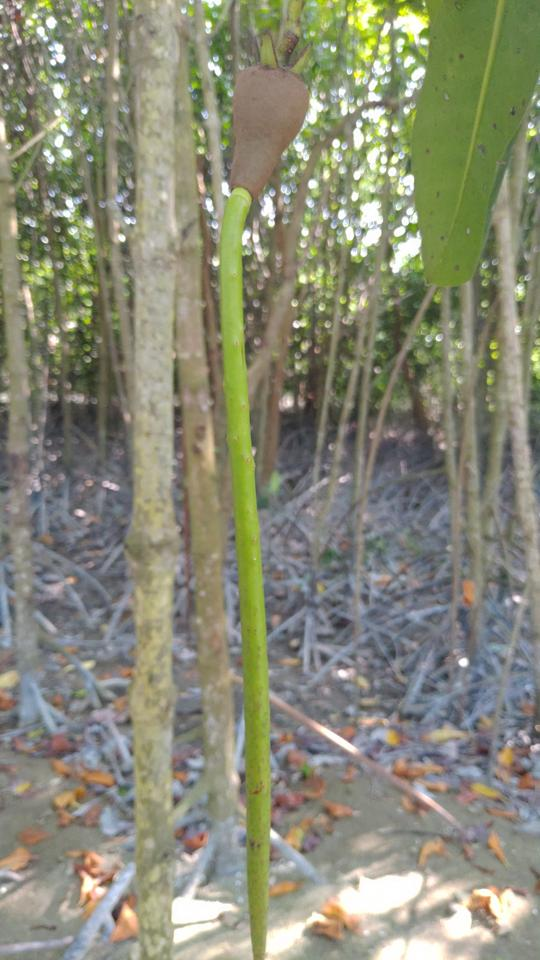setengah matang: (202, 30, 332, 958)
